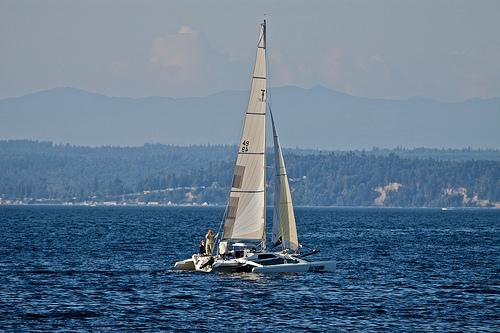Ship: (175, 22, 340, 277)
